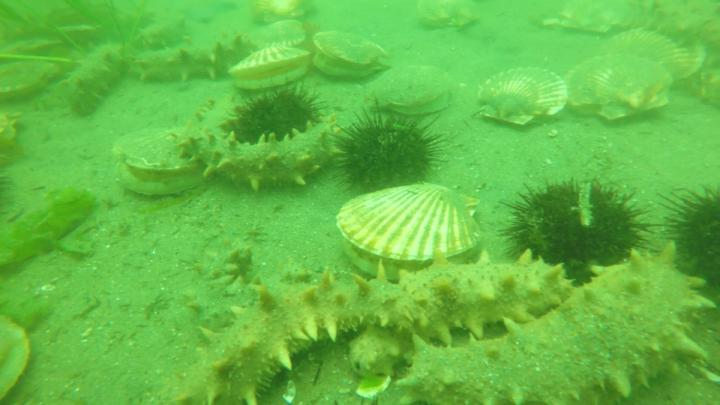echinus: (502, 172, 660, 284), (333, 107, 445, 191), (660, 175, 720, 292), (231, 84, 324, 142)
holothurian: (170, 246, 568, 405), (398, 240, 709, 405), (185, 97, 342, 192), (184, 244, 267, 331), (129, 34, 246, 86), (62, 43, 125, 118), (628, 1, 720, 43), (130, 13, 192, 49)
scallop: (336, 185, 491, 282), (564, 50, 676, 123), (600, 26, 706, 89), (470, 65, 569, 129), (116, 127, 205, 198), (370, 60, 460, 116), (311, 25, 393, 81), (228, 46, 314, 93), (1, 312, 38, 405), (556, 1, 639, 36), (1, 55, 60, 103), (414, 1, 486, 32), (243, 20, 313, 51), (254, 1, 319, 23)
